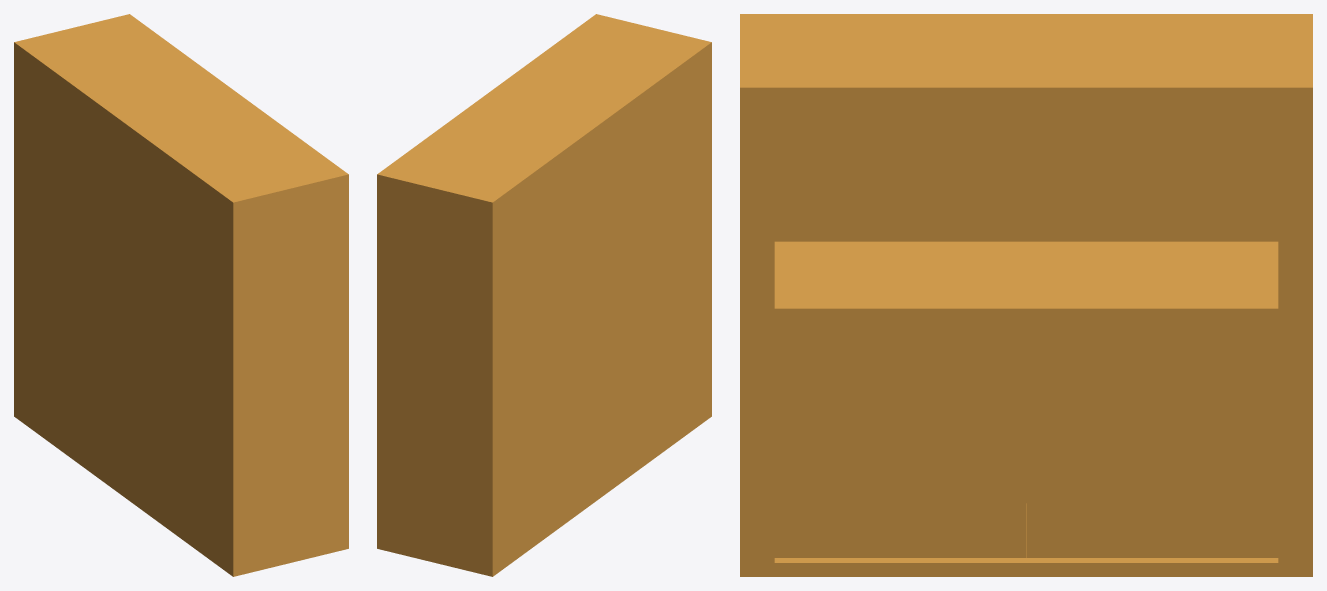
File: Bookshelf.fbx
3 views of the same model, side by side, from view 1: azimuth 30°, elevation 25°; view 2: azimuth 150°, elevation 25°; view 3: azimuth 270°, elevation 25° (orthographic). The views are drawn at different scales.
Visible parts, largest first — view 1: Bookshlef; view 2: Bookshlef; view 3: Bookshlef.
Boxes of the visible parts, x1,y1,x2,y2 form: Bookshlef: [14, 14, 348, 576]; Bookshlef: [377, 14, 711, 576]; Bookshlef: [740, 14, 1312, 576].
Bounding box in the file's own units: 12.25 × 37.91 × 40.22.
